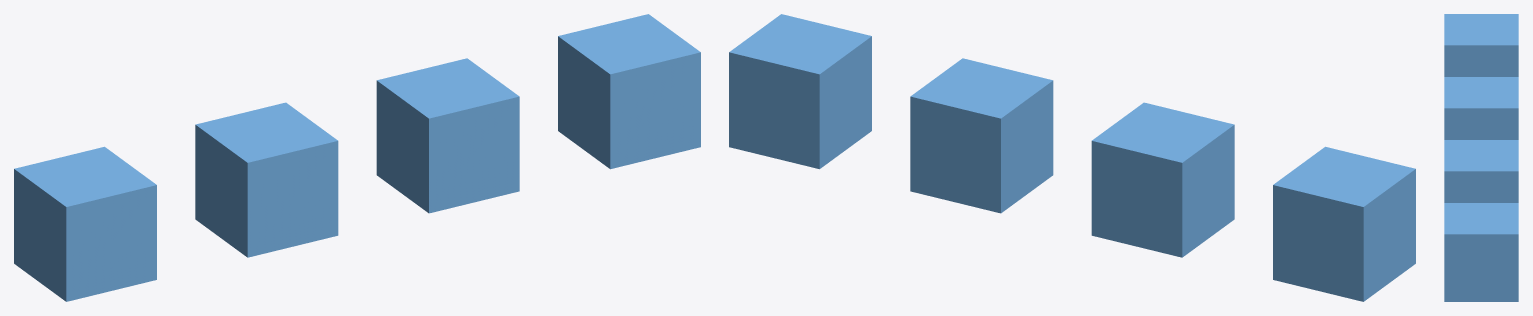
Rendered from spatial-demo-source.gltf.
3 renders of one model, left to right at view 1: azimuth 30°, elevation 25°; view 2: azimuth 150°, elevation 25°; view 3: azimuth 270°, elevation 25°, orthographic. The views are drawn at different scales.
Parts seen in each view (by area): view 1: equipment-1, equipment-2, equipment-0, equipment-3; view 2: equipment-1, equipment-2, equipment-0, equipment-3; view 3: equipment-3, equipment-0, equipment-1, equipment-2.
Part boxes in pixels (left/top/right/bottom): equipment-1: left=195, top=102, right=338, bottom=257; equipment-2: left=376, top=58, right=519, bottom=213; equipment-0: left=14, top=146, right=156, bottom=301; equipment-3: left=558, top=14, right=700, bottom=169; equipment-1: left=1091, top=102, right=1234, bottom=257; equipment-2: left=910, top=58, right=1053, bottom=213; equipment-0: left=1273, top=146, right=1415, bottom=301; equipment-3: left=729, top=14, right=871, bottom=169; equipment-3: left=1444, top=203, right=1518, bottom=301; equipment-0: left=1444, top=14, right=1518, bottom=76; equipment-1: left=1444, top=77, right=1518, bottom=139; equipment-2: left=1444, top=140, right=1518, bottom=202.
Bounding box in the file's own units: 14 × 2 × 2.
